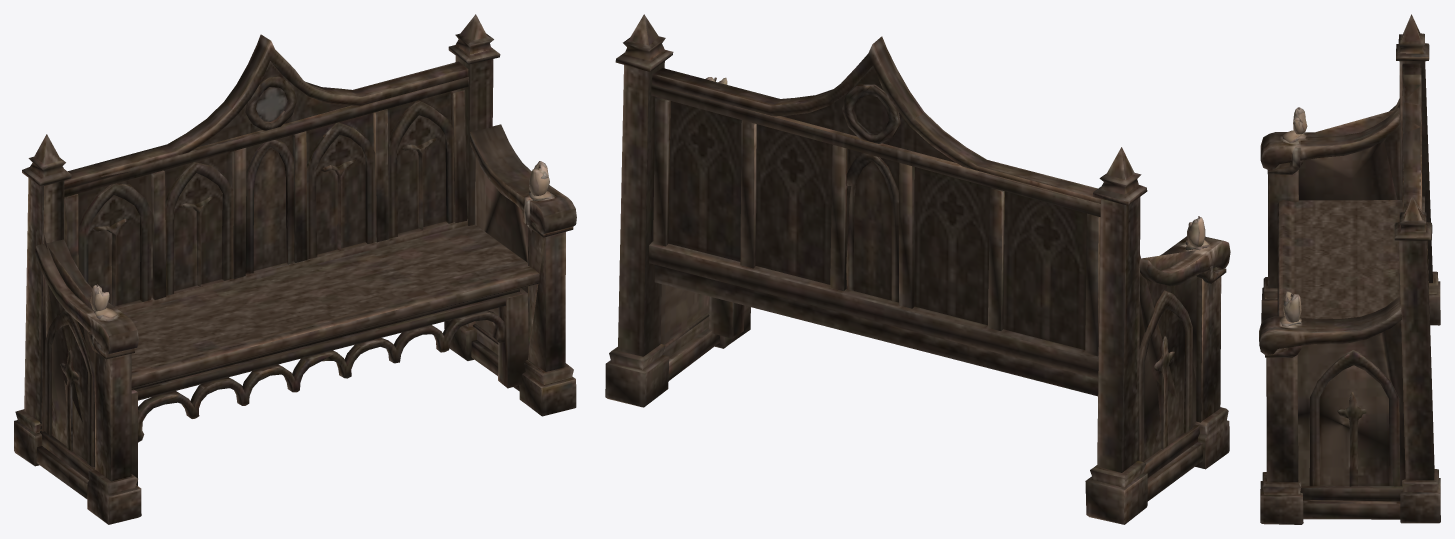
Rendered from h_bench_decorated.glb.
The picture shows the model from 3 angles, left to right: view 1: azimuth 30°, elevation 25°; view 2: azimuth 150°, elevation 25°; view 3: azimuth 270°, elevation 25°; orthographic projection. The views are drawn at different scales.
Parts seen in each view (by area): view 1: h_bench_decorated; view 2: h_bench_decorated; view 3: h_bench_decorated.
Boxes of the visible parts, x1=… form: h_bench_decorated: x1=14, y1=14, x2=576, y2=524; h_bench_decorated: x1=605, y1=14, x2=1230, y2=524; h_bench_decorated: x1=1259, y1=14, x2=1440, y2=524.
Bounding box in the file's own units: 2 × 1.52 × 0.7213.
Materials: 1 (1 with a texture image).
